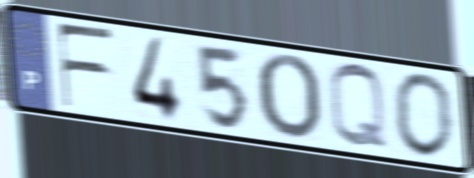4: (130, 33, 185, 126)
5: (192, 42, 252, 133)
F: (54, 20, 118, 111)
O: (252, 50, 324, 145), (390, 69, 458, 162)
Q: (325, 60, 392, 154)
